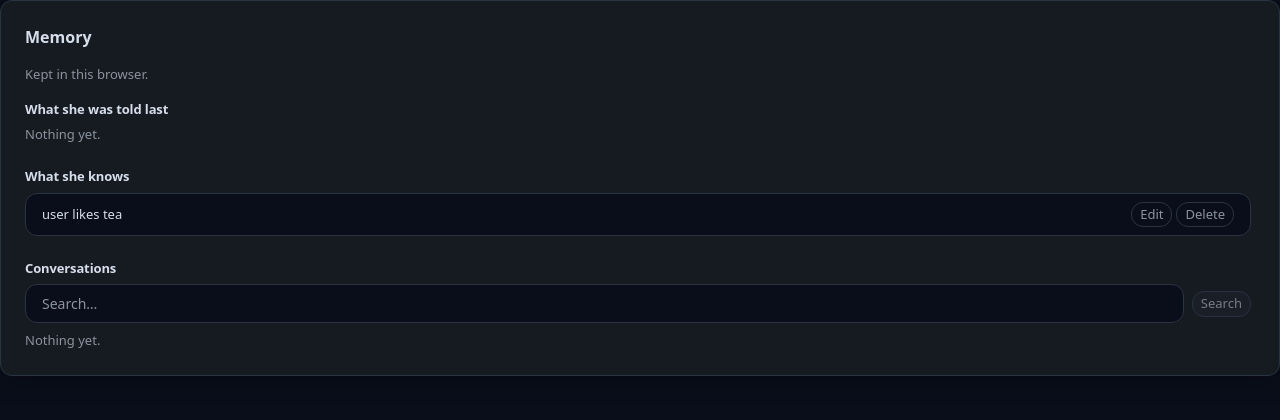
Test: MemoryPanel (P4-T05) › a store that throws on delete shows the message and keeps the rest of the panel
Check: the text "user likes tea" is shown, box [42,204,122,224]
Click the button "Delete" at (1205, 214), box [1176,202,1234,227]
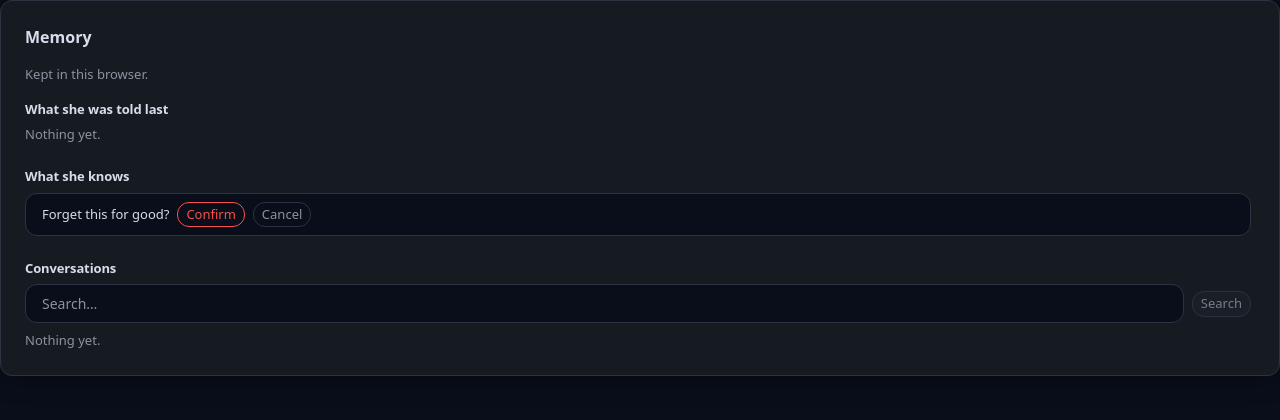
Click the button "Confirm" at (211, 214), box [177,202,245,227]
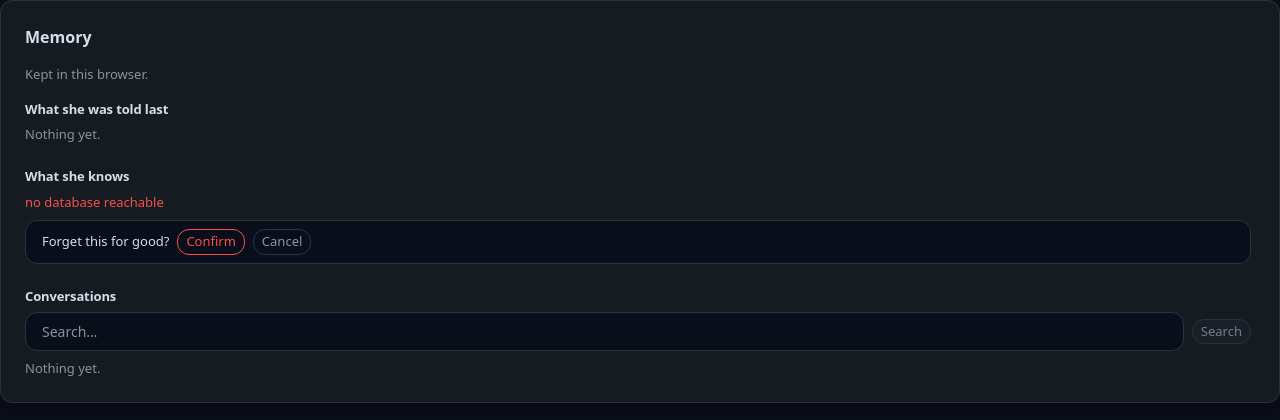
Check: the text "no database reachable" is shown, box [25,192,164,210]
Click the button "Cancel" at (282, 242), box [253,229,311,255]
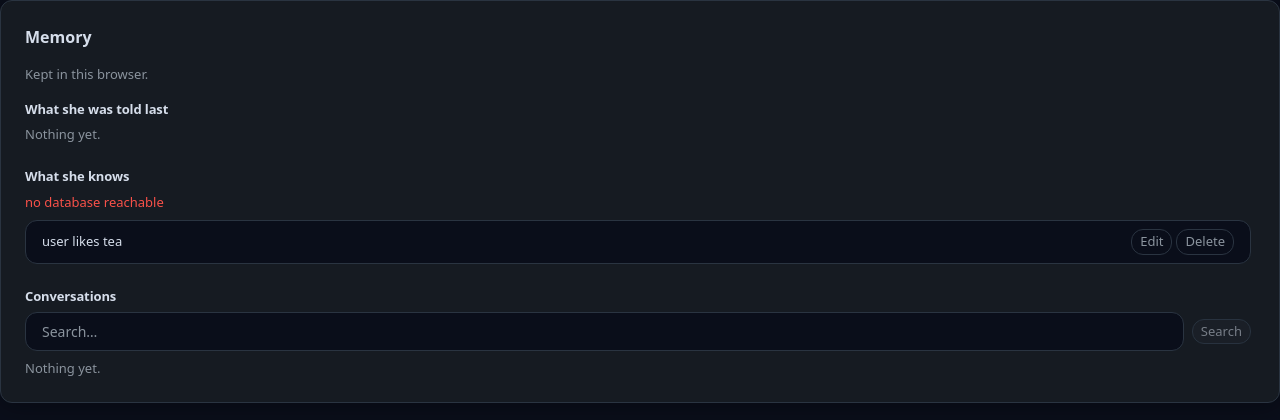
Check: the text "user likes tea" is shown, box [42,232,122,252]
